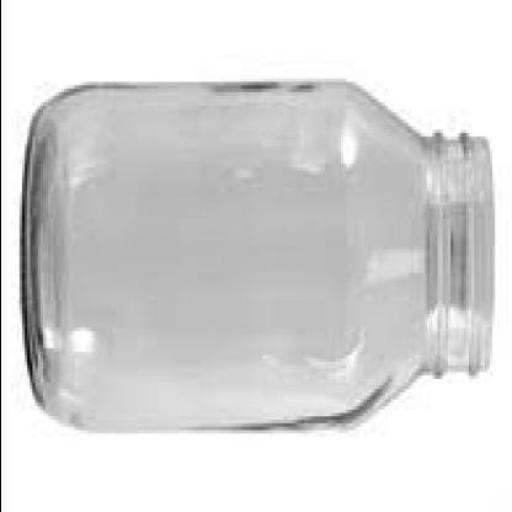glass: (24, 78, 494, 427)
